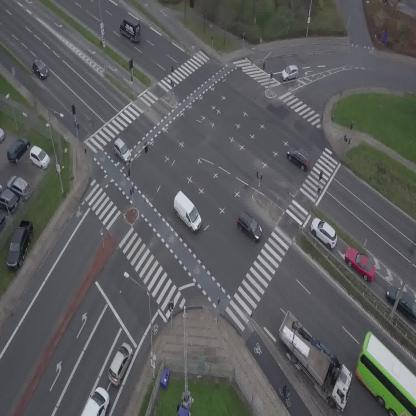bicycle: (278, 385, 293, 409)
car: (340, 242, 382, 285), (103, 340, 137, 387), (305, 213, 343, 251), (232, 210, 267, 244), (281, 140, 316, 173), (81, 386, 110, 416), (108, 137, 136, 165), (28, 58, 51, 81), (279, 64, 300, 82)
lorry: (265, 304, 365, 415), (165, 190, 208, 234), (115, 14, 148, 45)
